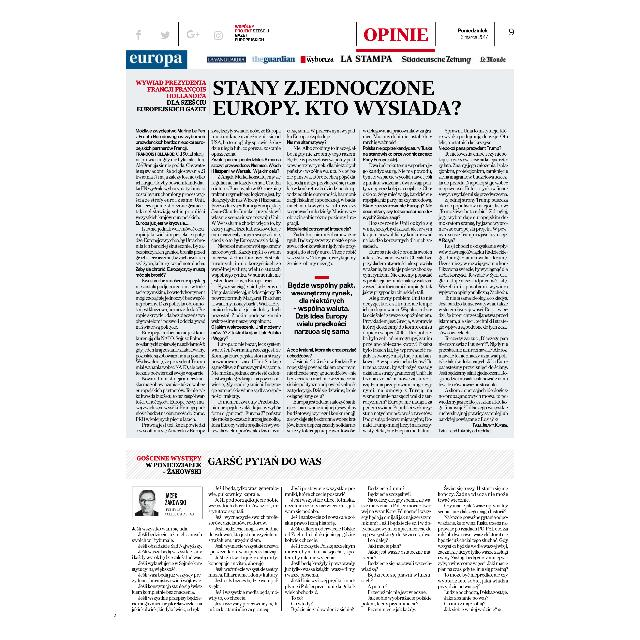article: (126, 69, 514, 437), (127, 450, 516, 618)
